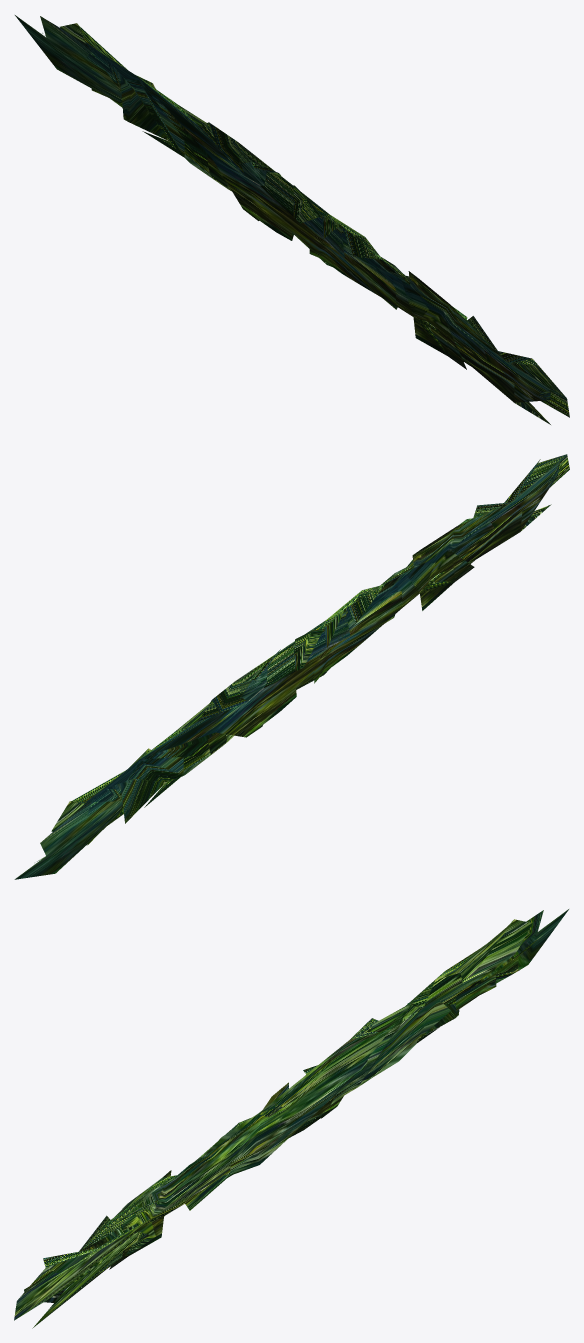
3 renders of one model, top to bottom at view 1: azimuth 30°, elevation 25°; view 2: azimuth 150°, elevation 25°; view 3: azimuth 330°, elevation 25°, orthographic.
Parts seen in each view (by area): view 1: algae_cube_Cube; view 2: algae_cube_Cube; view 3: algae_cube_Cube.
Boxes of the visible parts, x1,y1,x2,y2 form: algae_cube_Cube: [15, 15, 569, 424]; algae_cube_Cube: [14, 454, 569, 879]; algae_cube_Cube: [14, 909, 568, 1328].
Size of the model in its own units: 0.0154 by 0.2076 by 3.2.
